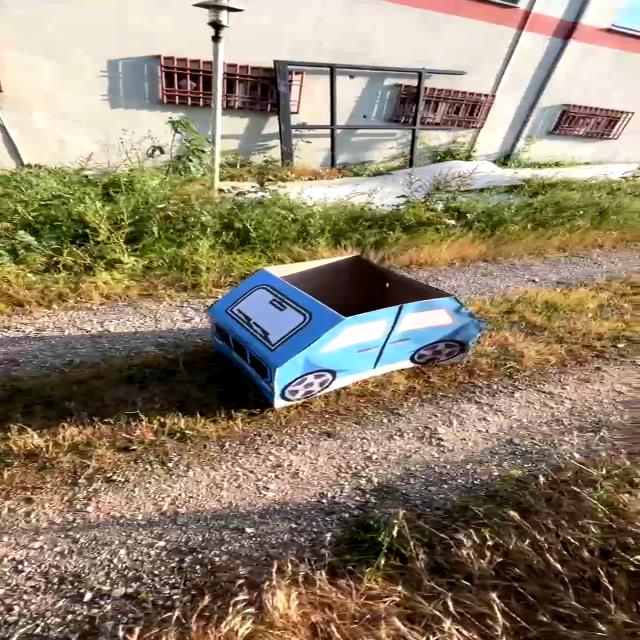blue_car: (168, 239, 542, 443)
